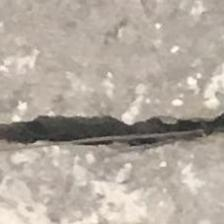Crack: (0, 103, 224, 170)
